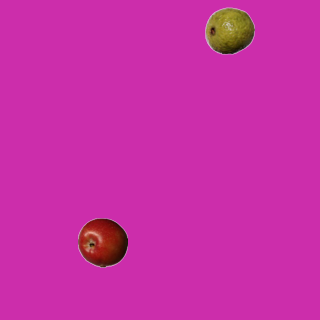Apple Braeburn: (77, 217, 127, 267)
Guava: (204, 5, 254, 55)
